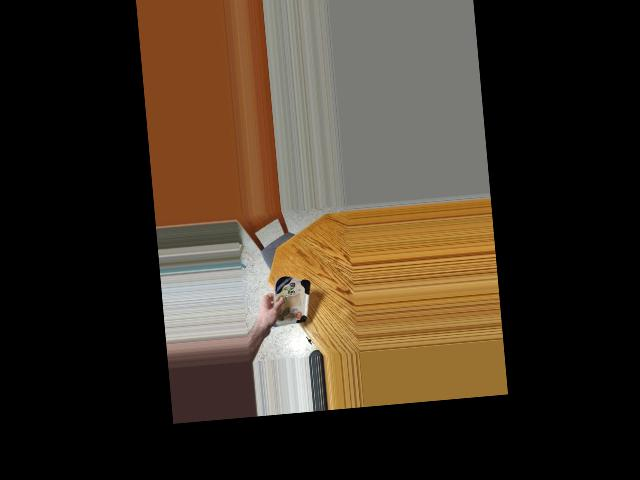cheese: (265, 273, 314, 328)
